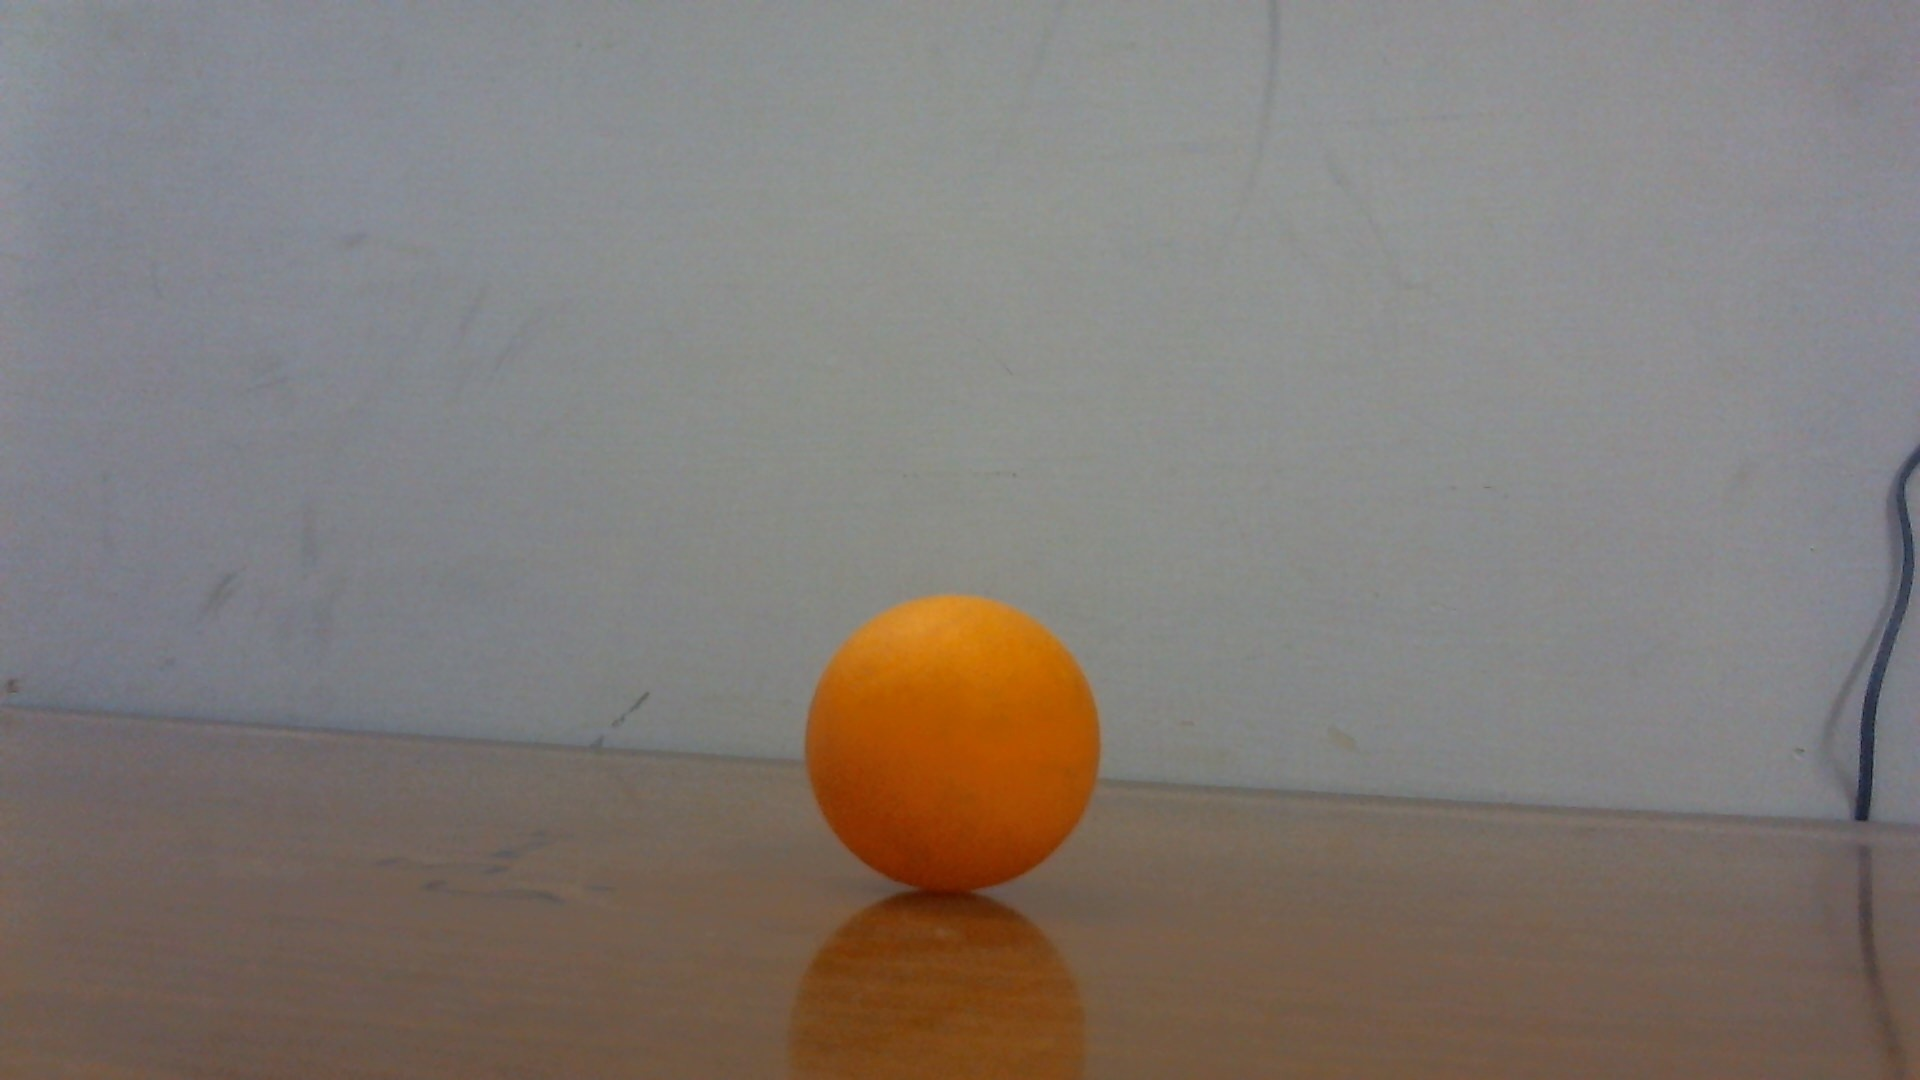ball: (806, 587, 1102, 887)
